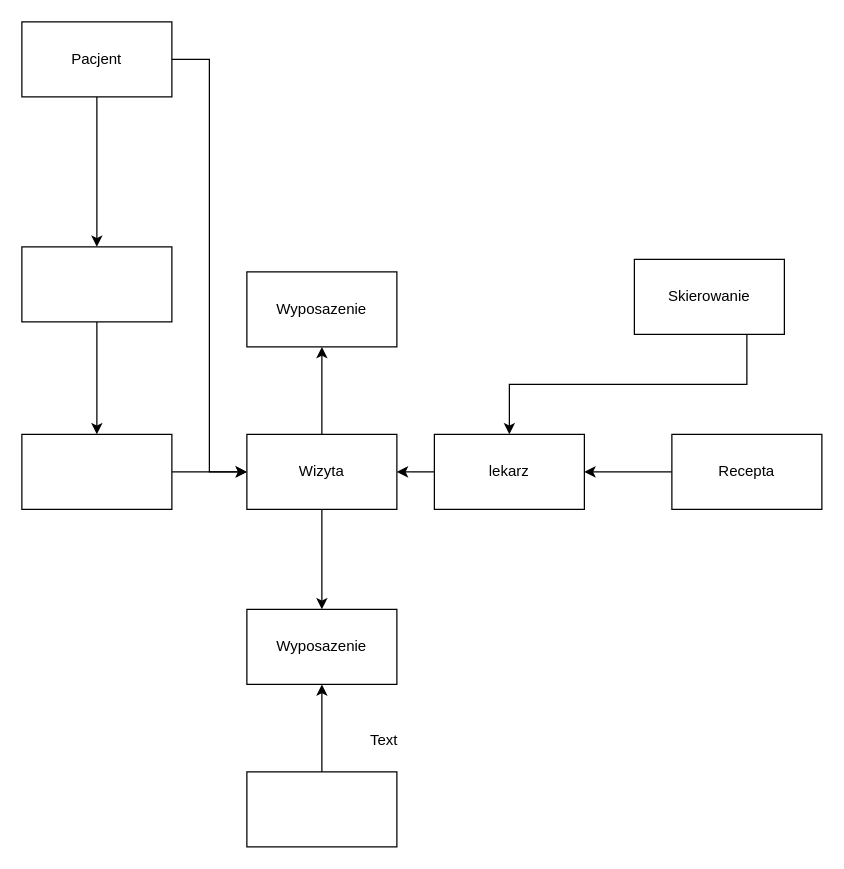
Some shapes in this 844 by 869 pixel diagram are drawn without their labels. The shapes that lost their labels are listed below. From the top down, each one's centre as x and y in pixels, then its label:
At [96,284]: "Pracownik Rejestracji".
At [96,471]: "rejestracja".
At [321,809]: "Technik".
